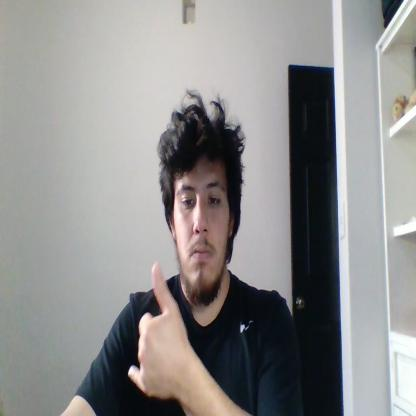Y: (127, 262, 189, 398)
